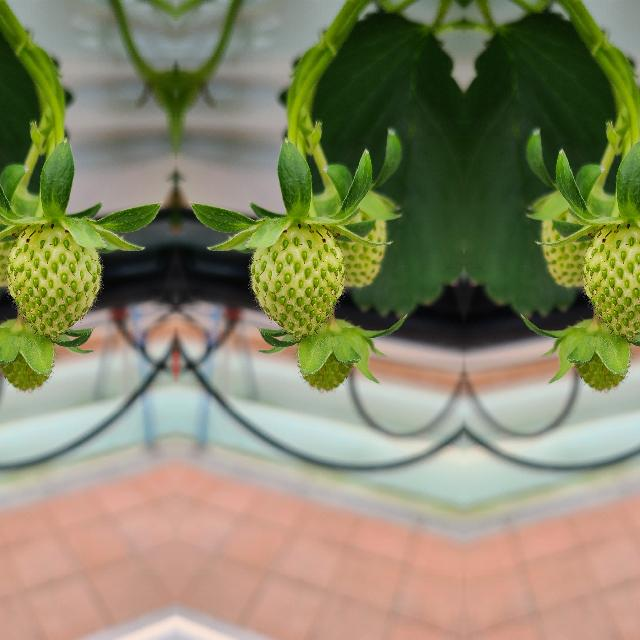Health_25: (250, 227, 344, 336), (6, 227, 100, 336), (318, 172, 402, 288), (524, 172, 608, 288), (582, 226, 640, 335), (291, 326, 373, 394), (553, 326, 635, 394), (0, 326, 59, 394), (0, 172, 32, 287)
